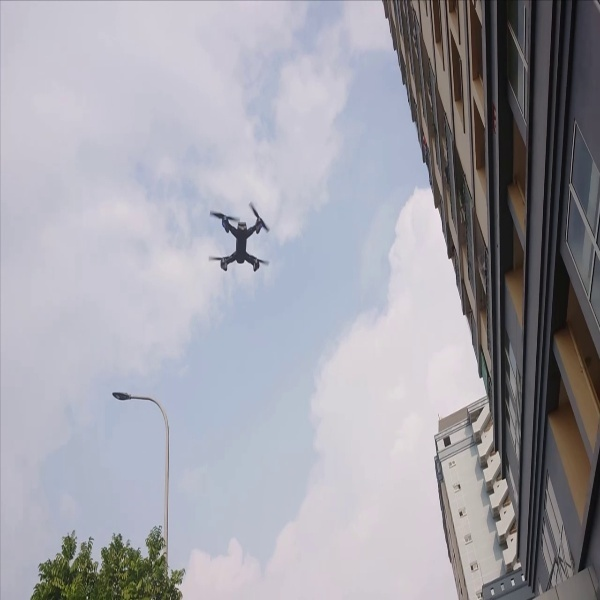drone: (201, 198, 277, 276)
